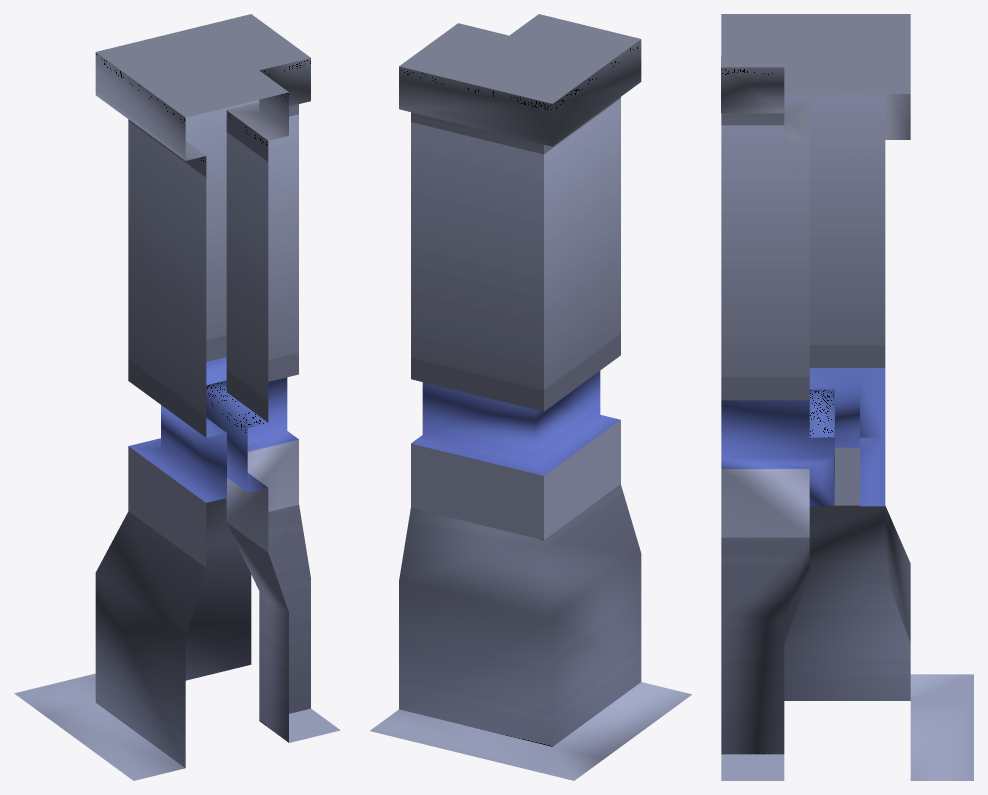
Rendered from wall-corner.glb.
3 views of the same model, side by side, from view 1: azimuth 30°, elevation 25°; view 2: azimuth 150°, elevation 25°; view 3: azimuth 270°, elevation 25° (orthographic). The views are drawn at different scales.
Parts seen in each view (by area): view 1: wall-corner; view 2: wall-corner; view 3: wall-corner.
Boxes of the visible parts, x1=… form: wall-corner: x1=14, y1=14, x2=340, y2=780; wall-corner: x1=370, y1=14, x2=691, y2=780; wall-corner: x1=721, y1=14, x2=973, y2=780.
Bounding box in the file's own units: 1 × 3 × 1.
2 materials, 2 textured.
